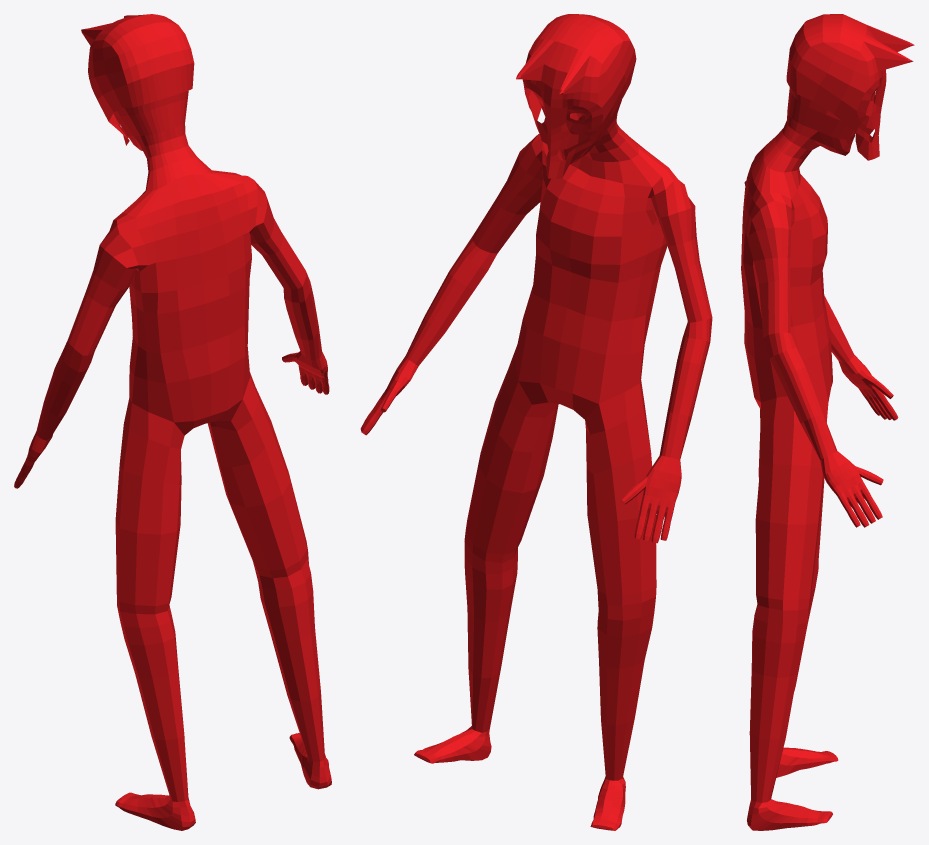
File: reposoE_000285.obj
The picture shows the model from 3 angles, left to right: view 1: azimuth 30°, elevation 25°; view 2: azimuth 150°, elevation 25°; view 3: azimuth 270°, elevation 25°; orthographic projection. The views are drawn at different scales.
Parts seen in each view (by area): view 1: Plane.002_Plane.001; view 2: Plane.002_Plane.001; view 3: Plane.002_Plane.001.
Boxes of the visible parts, <box> form: Plane.002_Plane.001: <box>14,14,331,830</box>; Plane.002_Plane.001: <box>360,14,712,830</box>; Plane.002_Plane.001: <box>741,14,914,830</box>.
Bounding box in the file's own units: 2.91 × 7.16 × 1.5.
